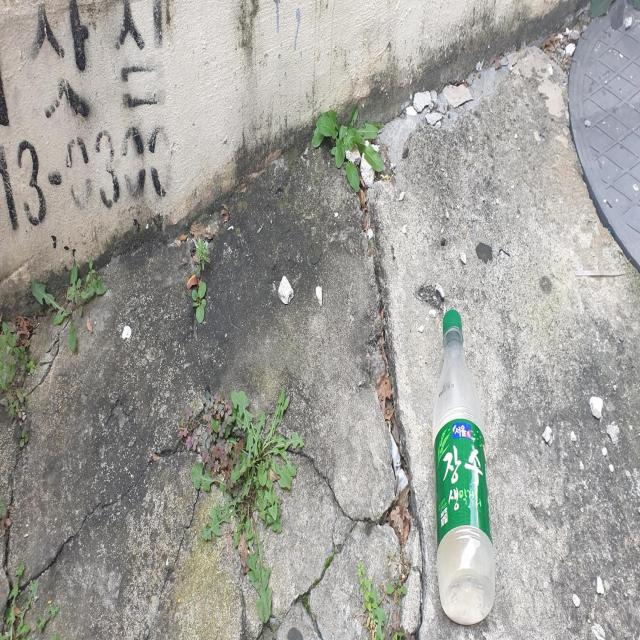plastic: (433, 308, 496, 625)
